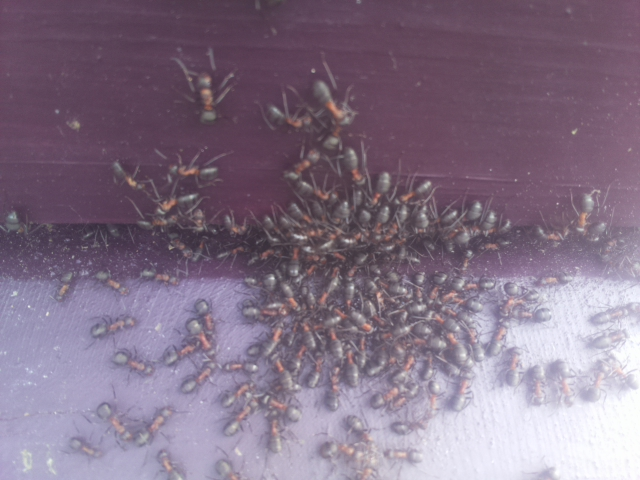ant: (302, 64, 361, 139), (88, 383, 144, 462), (127, 392, 183, 460), (337, 405, 390, 463), (132, 187, 196, 235), (311, 432, 374, 480), (279, 163, 341, 209), (329, 137, 377, 195), (180, 299, 222, 360), (219, 390, 267, 440), (277, 141, 328, 187), (181, 68, 221, 122), (570, 184, 604, 245), (268, 347, 308, 398), (257, 98, 318, 130), (104, 345, 161, 379), (84, 310, 142, 343), (390, 174, 438, 213), (177, 355, 218, 399), (233, 297, 295, 326), (364, 379, 415, 414), (332, 299, 378, 337), (262, 393, 308, 430), (364, 163, 396, 215), (162, 159, 226, 184), (62, 428, 107, 462), (217, 377, 262, 411), (105, 163, 156, 191), (261, 407, 289, 456), (46, 267, 80, 306), (302, 349, 329, 396), (157, 340, 205, 366), (0, 203, 34, 238), (219, 209, 254, 242), (155, 444, 187, 480), (90, 268, 128, 298), (579, 368, 607, 405), (323, 367, 344, 412), (465, 320, 486, 364), (137, 266, 178, 288), (501, 351, 526, 387), (486, 321, 509, 359), (451, 372, 473, 411), (529, 365, 547, 411), (209, 461, 252, 480), (382, 446, 428, 463)
